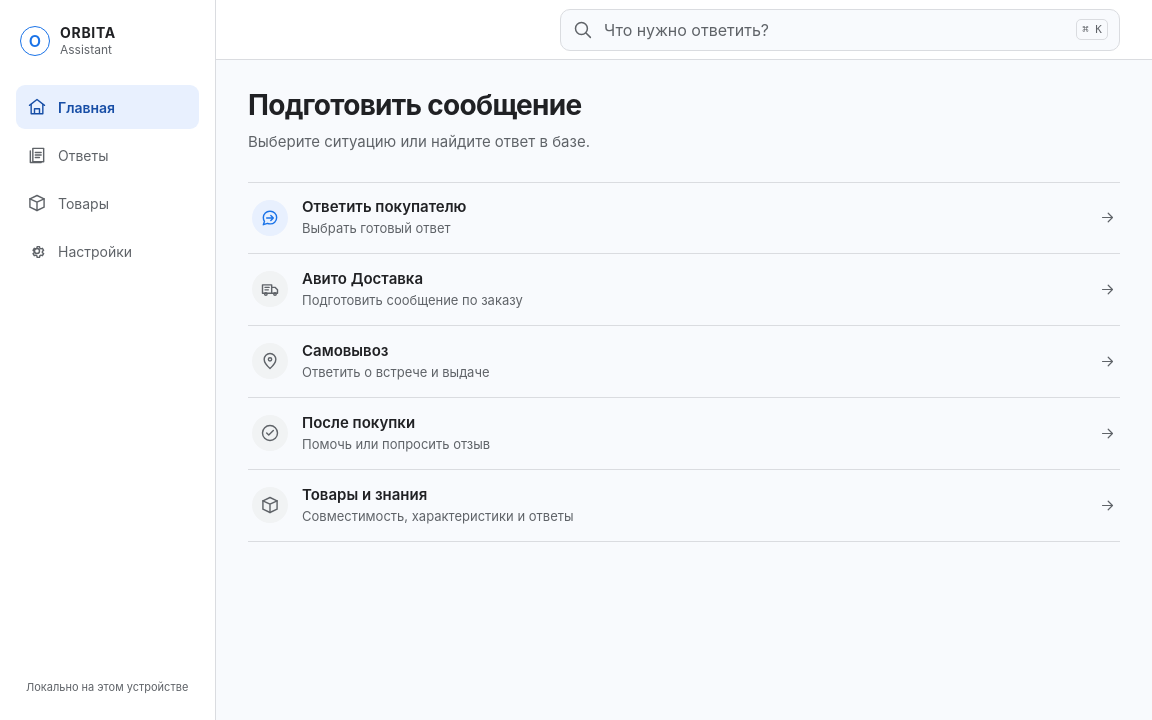
Test: app shell › finds the ORBITA white Xbox controller answer in the library
Click the button "Ответы".
click(108, 155)  # box [16,133,199,177]
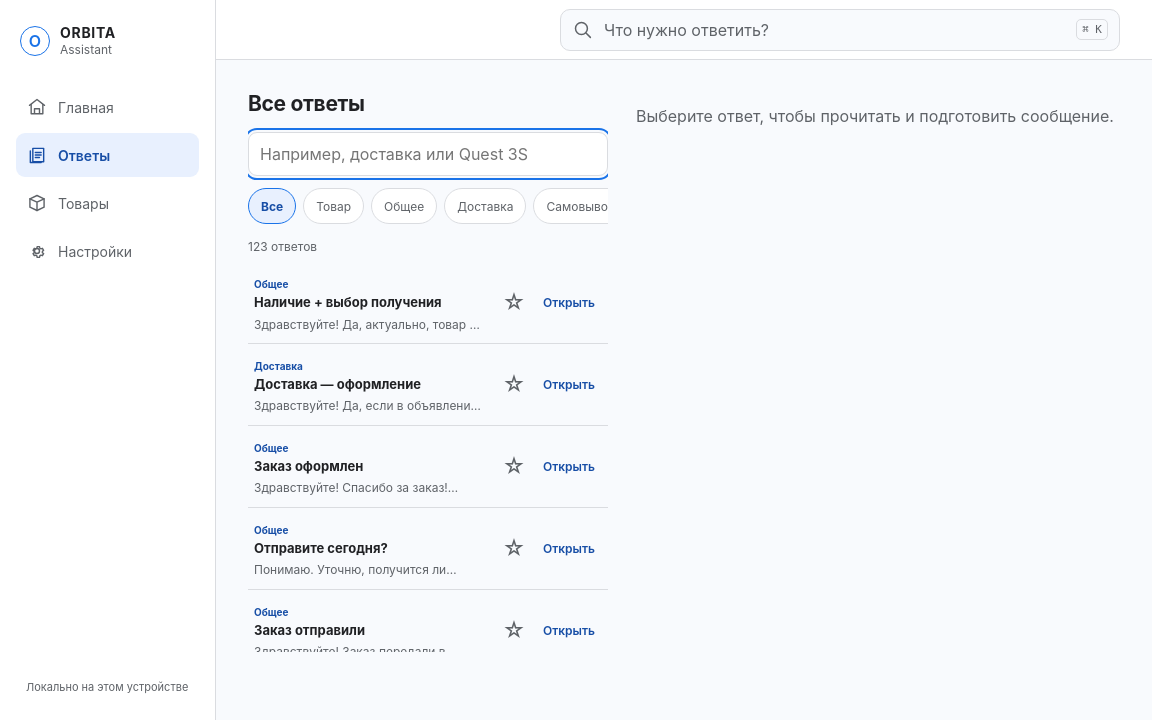
Type "белый геймпад" into the search field named "Поиск ответа".
click(428, 154); type("белый геймпад")  # box [248,132,608,176]
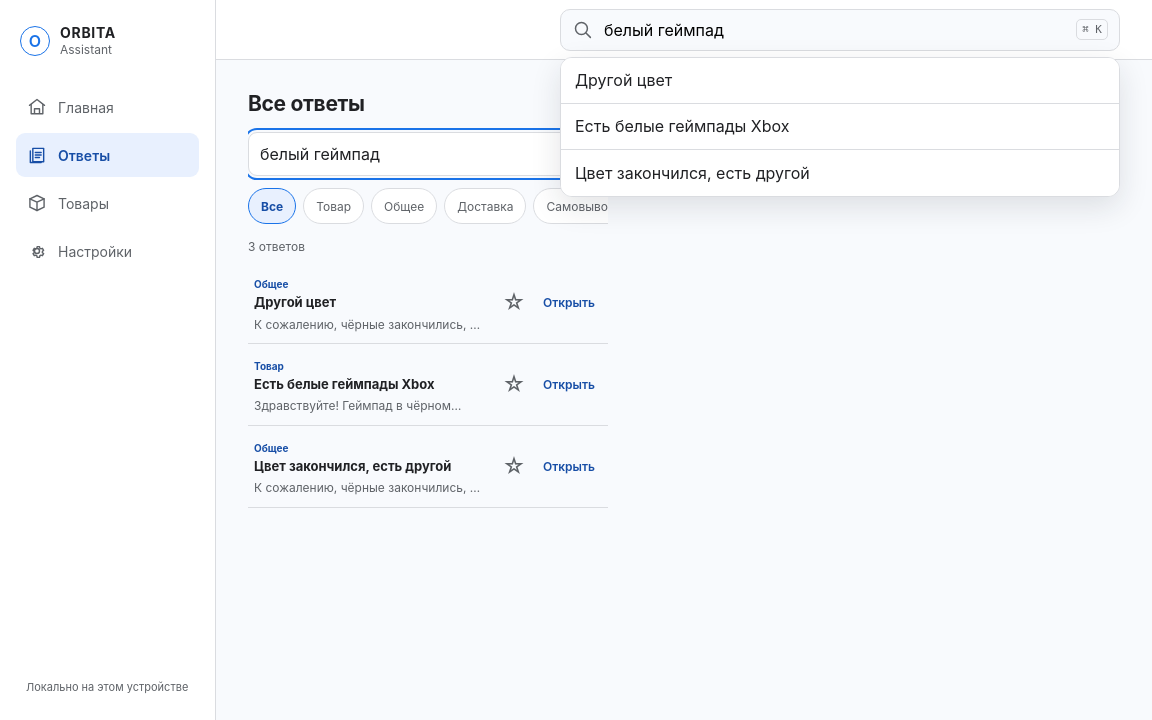
expect the heading "Есть белые геймпады Xbox" is shown: met, box [254,376,434,392]
